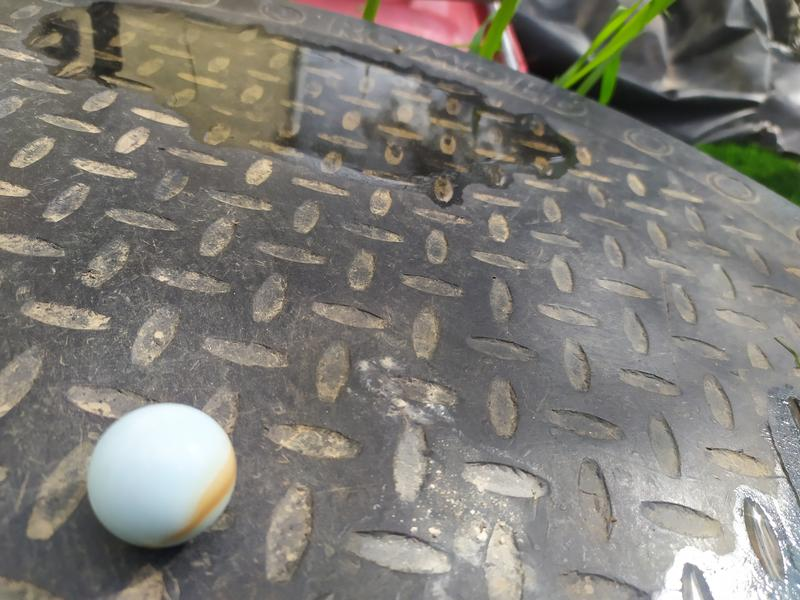Warning: (83, 399, 241, 553)
